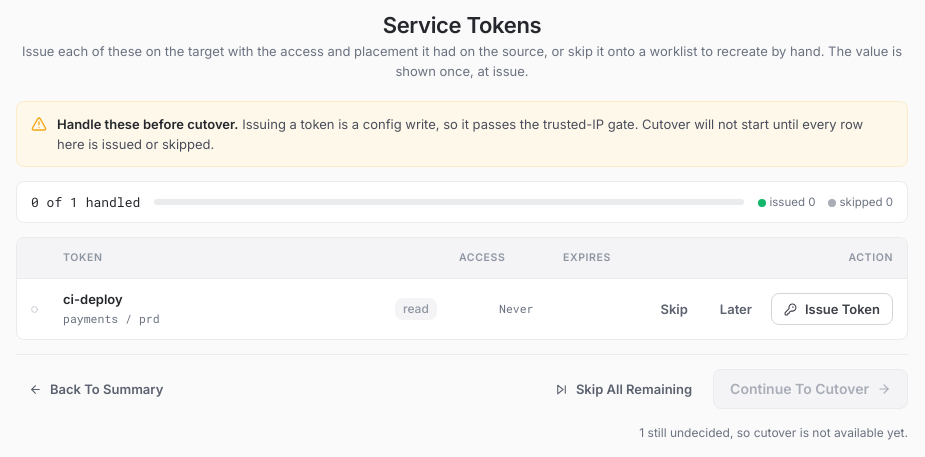
Test: ServiceTokenReportPage › sets a token aside for later, and says cutover still waits on it
Click the button "Later": [736, 309] box [707,293,765,325]
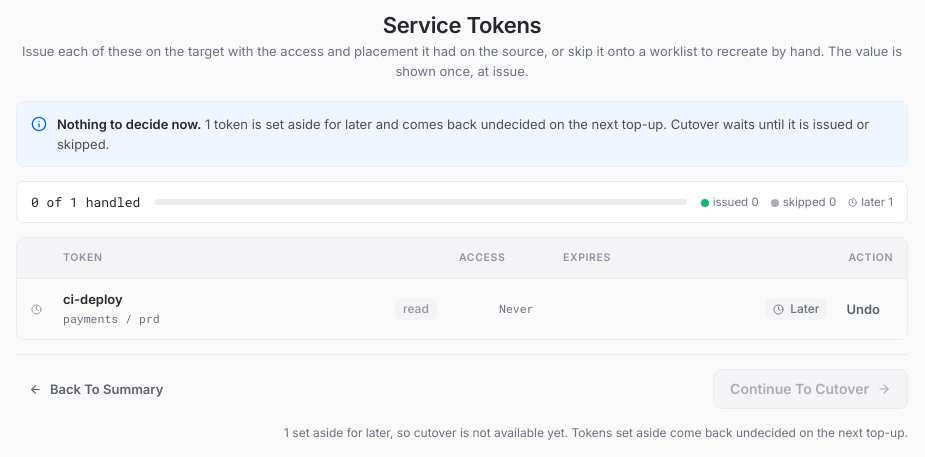
Check: the text "Later" is shown, box [765,298,828,320]
Check: the button "Undo" is shown, box [833,293,893,325]
Check: the text "1 set aside for later" is shown, box [284,425,390,440]
